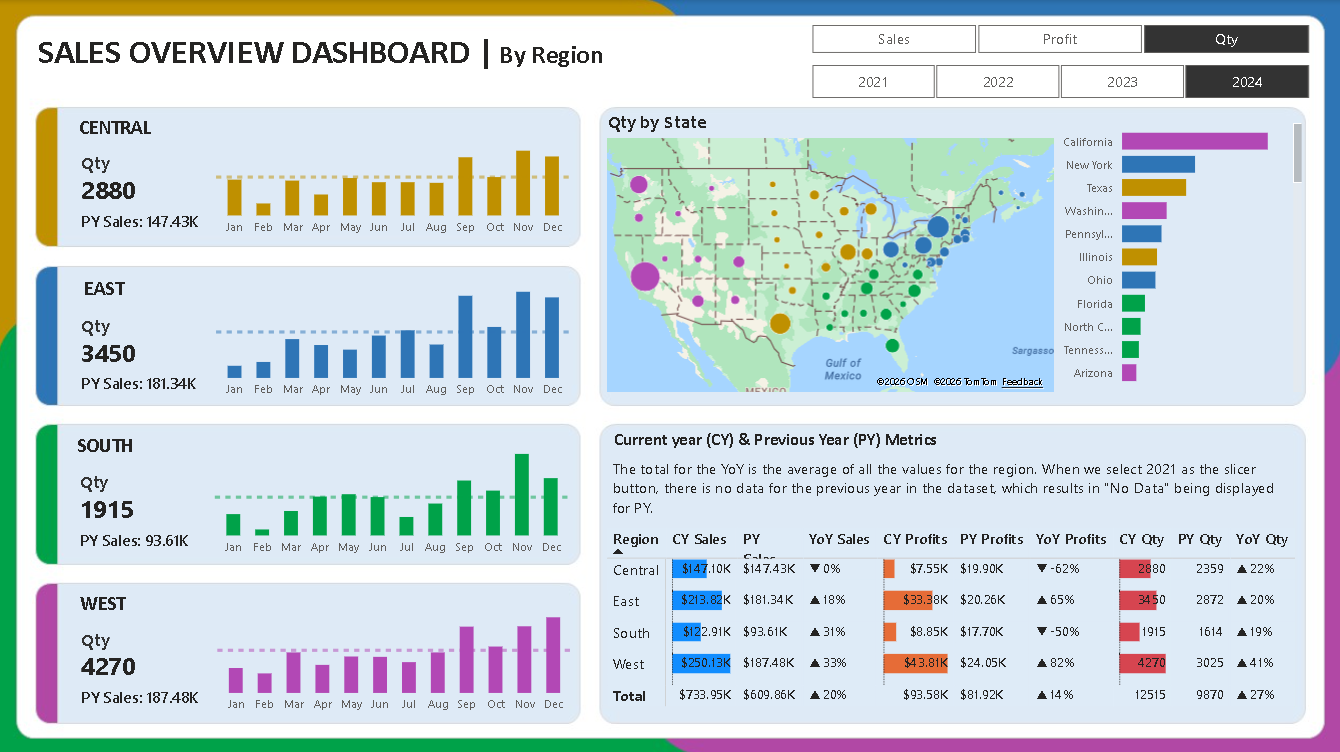

What the dashboard file says about the page in this screenshot:
{"tool":"powerbi","page":{"name":"Sales Overview Dashboard","canvas":[1280,720],"ordinal":0},"visuals":[{"type":"slicer","fields":{"Values":["Select Metric.Select Metric"]},"box":[749.2,16.6,521.2,38],"z":0},{"type":"textbox","box":[60.6,104.5,105.7,33.2],"z":1000},{"type":"cardVisual","fields":{"Data":["Sales Data.Total Qty"]},"box":[76,162.7,108,32.1],"z":2000},{"type":"slicer","fields":{"Values":["Calendar.Year"]},"box":[749.2,54.9,521.4,45.3],"z":3000},{"type":"cardVisual","fields":{"Data":["Sales Data.Dynamic Title"]},"box":[76,137.7,54.6,33.2],"z":4000},{"type":"cardVisual","fields":{"Data":["Sales Data.PY KPI Sales"]},"box":[76,194.7,129.4,28.5],"z":5000},{"type":"clusteredColumnChart","fields":{"Y":["Sales Data.Total Qty"],"Category":["Calendar.Month"]},"box":[204.5,100.2,347.2,133.1],"z":6000},{"type":"textbox","box":[34.3,24.7,547.5,53.5],"z":7000},{"type":"textbox","box":[75.5,258,53.5,32.9],"z":8000},{"type":"cardVisual","fields":{"Data":["Sales Data.Total Qty"]},"box":[76.1,316.5,108,32.1],"z":9000},{"type":"cardVisual","fields":{"Data":["Sales Data.Dynamic Title"]},"box":[76.1,291.5,54.6,33.2],"z":10000},{"type":"cardVisual","fields":{"Data":["Sales Data.PY KPI Sales"]},"box":[76.1,348.5,129.4,28.5],"z":11000},{"type":"clusteredColumnChart","fields":{"Y":["Sales Data.Total Qty"],"Category":["Calendar.Month"]},"box":[204.6,254,347.2,133.1],"z":12000},{"type":"textbox","box":[64.5,407.5,79.6,32.9],"z":13000},{"type":"cardVisual","fields":{"Data":["Sales Data.Total Qty"]},"box":[75.1,465.9,108,32.1],"z":14000},{"type":"cardVisual","fields":{"Data":["Sales Data.Dynamic Title"]},"box":[75.1,441,54.6,33.2],"z":15000},{"type":"cardVisual","fields":{"Data":["Sales Data.PY KPI Sales"]},"box":[75.1,498,129.4,28.5],"z":16000},{"type":"clusteredColumnChart","fields":{"Y":["Sales Data.Total Qty"],"Category":["Calendar.Month"]},"box":[203.6,403.4,347.2,133.1],"z":17000},{"type":"textbox","box":[61.6,557,79.6,32.9],"z":18000},{"type":"cardVisual","fields":{"Data":["Sales Data.Total Qty"]},"box":[76.4,615.3,108,32.1],"z":19000},{"type":"cardVisual","fields":{"Data":["Sales Data.Dynamic Title"]},"box":[76.4,590.4,54.6,33.2],"z":20000},{"type":"cardVisual","fields":{"Data":["Sales Data.PY KPI Sales"]},"box":[76.4,647.4,129.4,28.5],"z":21000},{"type":"clusteredColumnChart","fields":{"Y":["Sales Data.Total Qty"],"Category":["Calendar.Month"]},"box":[204.8,552.8,347.2,133.1],"z":22000},{"type":"azureMap","fields":{"Size":["Sales Data.Total Qty"],"Category":["Sales Data.State/Province"],"Series":["Sales Data.Region"]},"box":[576.3,104.3,433.6,273.1],"z":23000},{"type":"barChart","fields":{"Y":["Sales Data.Total Qty"],"Category":["Sales Data.State/Province"],"Series":["Sales Data.Region"]},"box":[993.8,104.5,251.7,273.1],"z":24000},{"type":"pivotTable","fields":{"Values":["Sales Data.CY Sales","Sales Data.PY Sales","Sales Data.YoY Sales","Sales Data.CY Profits","Sales Data.PY Profits","Sales Data.YoY Profits","Sales Data.CY Qty","Sales Data.PY Qty","Sales Data.YoY Qty"],"Rows":["Sales Data.Region"]},"box":[575.9,496.3,669.7,187.6],"z":25000},{"type":"textbox","box":[581.8,402.5,328.9,38],"z":26000},{"type":"textbox","box":[580.6,431,659,70.1],"z":27000}]}

Visuals, with their boxes in screenshot pixels (x1, y1, x2, y2), scaled from the page's 1280x720 canvas onto the 1340x752 screenshot:
slicer - Select Metric.Select Metric: box(784, 17, 1330, 57)
textbox: box(63, 109, 174, 144)
cardVisual - Sales Data.Total Qty: box(80, 170, 193, 203)
slicer - Calendar.Year: box(784, 57, 1330, 105)
cardVisual - Sales Data.Dynamic Title: box(80, 144, 137, 178)
cardVisual - Sales Data.PY KPI Sales: box(80, 203, 215, 233)
clusteredColumnChart - Sales Data.Total Qty x Calendar.Month: box(214, 105, 578, 244)
textbox: box(36, 26, 609, 82)
textbox: box(79, 269, 135, 304)
cardVisual - Sales Data.Total Qty: box(80, 331, 193, 364)
cardVisual - Sales Data.Dynamic Title: box(80, 304, 137, 339)
cardVisual - Sales Data.PY KPI Sales: box(80, 364, 215, 394)
clusteredColumnChart - Sales Data.Total Qty x Calendar.Month: box(214, 265, 578, 404)
textbox: box(68, 426, 151, 460)
cardVisual - Sales Data.Total Qty: box(79, 487, 192, 520)
cardVisual - Sales Data.Dynamic Title: box(79, 461, 136, 495)
cardVisual - Sales Data.PY KPI Sales: box(79, 520, 214, 550)
clusteredColumnChart - Sales Data.Total Qty x Calendar.Month: box(213, 421, 577, 560)
textbox: box(64, 582, 148, 616)
cardVisual - Sales Data.Total Qty: box(80, 643, 193, 676)
cardVisual - Sales Data.Dynamic Title: box(80, 617, 137, 651)
cardVisual - Sales Data.PY KPI Sales: box(80, 676, 215, 706)
clusteredColumnChart - Sales Data.Total Qty x Calendar.Month: box(214, 577, 578, 716)
azureMap - Sales Data.Total Qty x Sales Data.State/Province: box(603, 109, 1057, 394)
barChart - Sales Data.Total Qty x Sales Data.State/Province: box(1040, 109, 1304, 394)
pivotTable - Sales Data.CY Sales x Sales Data.PY Sales: box(603, 518, 1304, 714)
textbox: box(609, 420, 953, 460)
textbox: box(608, 450, 1298, 523)
